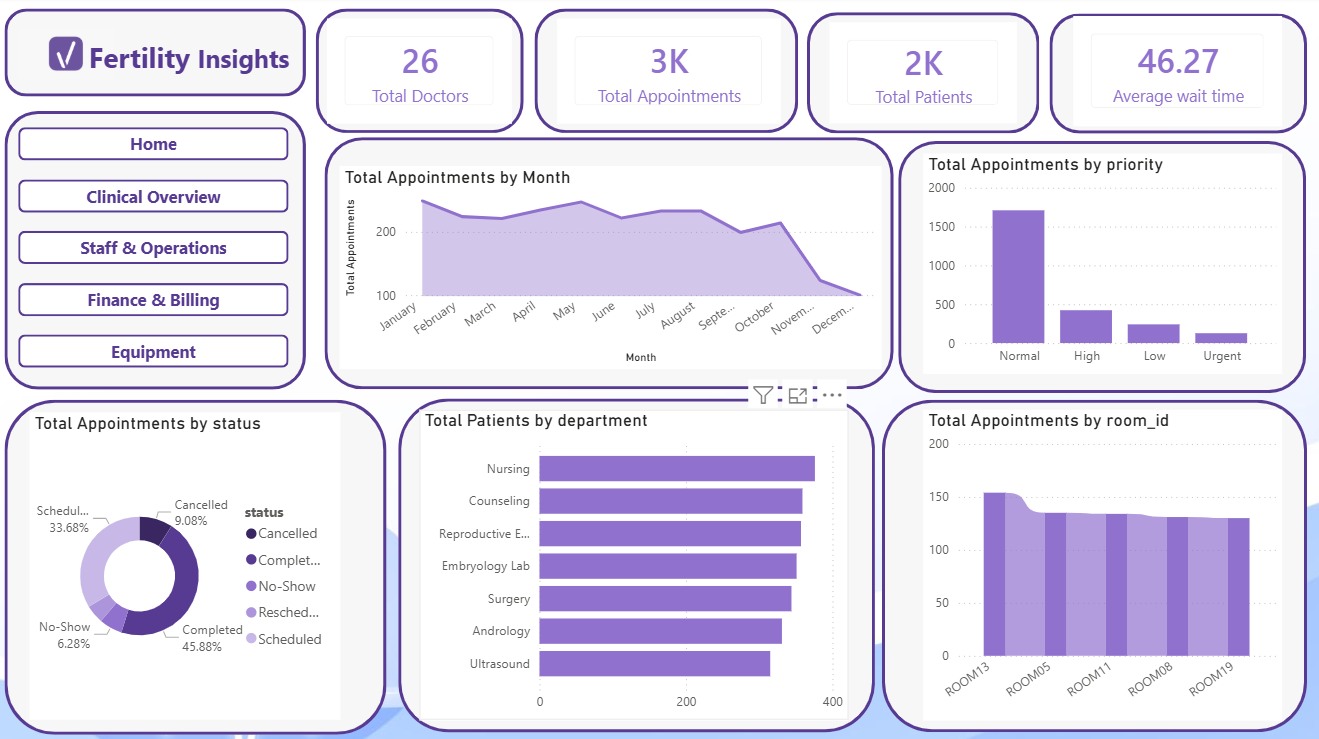

This screenshot's page, from the dashboard's own definition file:
{"tool":"powerbi","page":{"name":"Patient Management Tracker","canvas":[1280,720],"ordinal":2},"visuals":[{"type":"shape","box":[6.9,12.3,290.9,85.1],"z":0},{"type":"image","box":[20.6,5.5,91.9,98.8],"z":1000},{"type":"textbox","box":[74.1,41.2,223.7,56.3],"z":2000},{"type":"shape","box":[6.9,111.1,290.9,269],"z":3000},{"type":"pageNavigator","box":[20.5,126.7,261.8,232.8],"z":4000},{"type":"shape","box":[307.2,12.5,200.6,120.4],"z":5000},{"type":"shape","box":[519.1,12.5,254.5,120.4],"z":6000},{"type":"shape","box":[781.8,15.7,224.4,117],"z":7000},{"type":"shape","box":[7.5,390,368.7,323.5],"z":8000},{"type":"shape","box":[387.5,388.7,460.2,322.3],"z":9000},{"type":"shape","box":[1015.8,16.9,248.5,115.8],"z":10000},{"type":"shape","box":[854.2,389.7,410.2,320.9],"z":11000},{"type":"shape","box":[316,136.7,549.2,243.3],"z":12000},{"type":"cardVisual","fields":{"Data":["appointments.Total Doctors","appointments.Total Doctors"]},"box":[318.5,21.3,178.1,101.6],"z":13000},{"type":"cardVisual","fields":{"Data":["appointments.Total Patients"]},"box":[803.5,25.3,181,97.7],"z":14000},{"type":"cardVisual","fields":{"Data":["appointments.Total Appointments"]},"box":[540.4,21.3,215.7,101.6],"z":15000},{"type":"cardVisual","fields":{"Data":["patient_wait_time.Average wait time"]},"box":[1038.7,19.3,201.5,106.2],"z":16000},{"type":"areaChart","fields":{"Category":["Calendar.Date.Variation.Date Hierarchy.Month"],"Y":["appointments.Total Appointments"]},"box":[331,164.3,522.9,195.6],"z":17000},{"type":"barChart","fields":{"Category":["appointments.department"],"Y":["appointments.Total Patients"]},"box":[407.5,398.7,413.8,299.7],"z":18000},{"type":"shape","box":[870.2,140.4,393.7,243.3],"z":19000},{"type":"donutChart","fields":{"Y":["appointments.Total Appointments"],"Series":["appointments.status"]},"box":[31.3,401.3,299.7,297.2],"z":20000},{"type":"columnChart","fields":{"Category":["appointments.priority"],"Y":["appointments.Total Appointments"]},"box":[894,151.7,346.1,213.2],"z":21000},{"type":"ribbonChart","fields":{"Category":["appointments.room_id"],"Y":["appointments.Total Appointments"]},"box":[894,398.7,346.1,299.7],"z":22000}]}

Visuals, with their boxes in screenshot pixels (x1, y1, x2, y2), scaled from the page's 1280x720 canvas onto the 1319x739 screenshot:
shape: (7, 13, 307, 100)
image: (21, 6, 116, 107)
textbox: (76, 42, 307, 100)
shape: (7, 114, 307, 390)
pageNavigator: (21, 130, 291, 369)
shape: (317, 13, 523, 136)
shape: (535, 13, 797, 136)
shape: (806, 16, 1037, 136)
shape: (8, 400, 388, 732)
shape: (399, 399, 874, 730)
shape: (1047, 17, 1303, 136)
shape: (880, 400, 1303, 729)
shape: (326, 140, 892, 390)
cardVisual - appointments.Total Doctors x appointments.Total Doctors: (328, 22, 512, 126)
cardVisual - appointments.Total Patients: (828, 26, 1014, 126)
cardVisual - appointments.Total Appointments: (557, 22, 779, 126)
cardVisual - patient_wait_time.Average wait time: (1070, 20, 1278, 129)
areaChart - Calendar.Date.Variation.Date Hierarchy.Month x appointments.Total Appointments: (341, 169, 880, 369)
barChart - appointments.department x appointments.Total Patients: (420, 409, 846, 717)
shape: (897, 144, 1302, 394)
donutChart - appointments.Total Appointments x appointments.status: (32, 412, 341, 717)
columnChart - appointments.priority x appointments.Total Appointments: (921, 156, 1278, 375)
ribbonChart - appointments.room_id x appointments.Total Appointments: (921, 409, 1278, 717)
